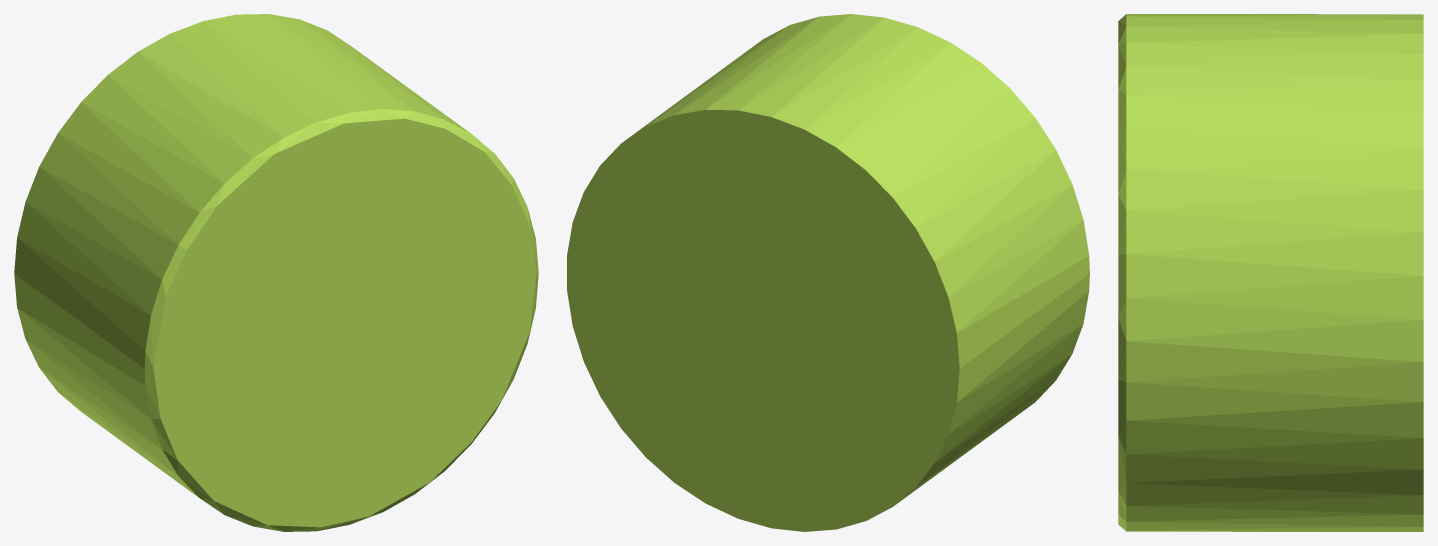
The picture shows the model from 3 angles, left to right: view 1: azimuth 30°, elevation 25°; view 2: azimuth 150°, elevation 25°; view 3: azimuth 270°, elevation 25°; orthographic projection. The views are drawn at different scales.
Parts seen in each view (by area): view 1: right_link7; view 2: right_link7; view 3: right_link7.
Boxes of the visible parts, x1,y1,x2,y2 form: right_link7: (14,14,538,531); right_link7: (567,14,1089,531); right_link7: (1118,14,1423,531).
Bounding box in the file's own units: 0.064 × 0.0639 × 0.0377.
